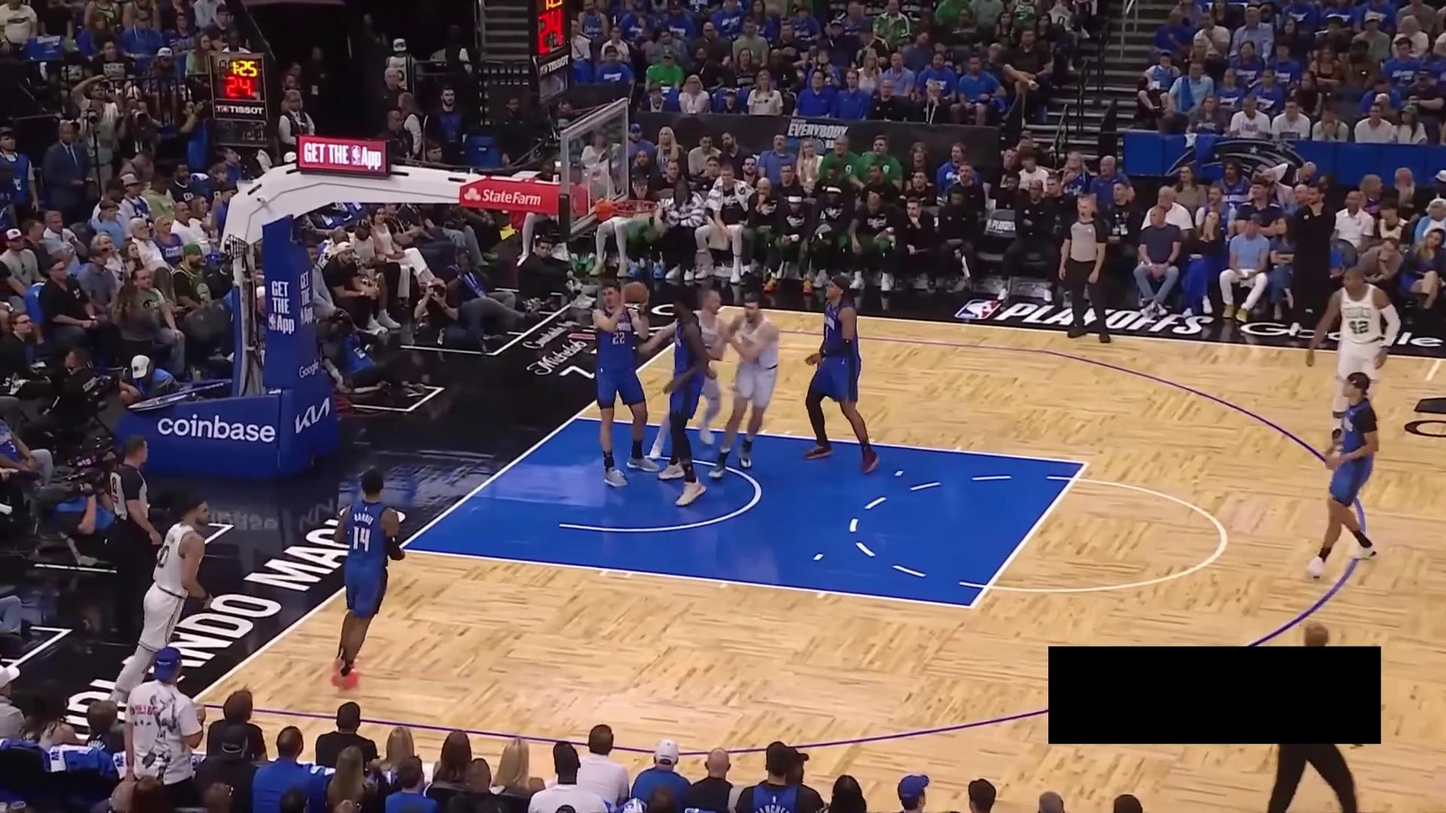ball: (622, 279, 647, 307)
number: (351, 523, 371, 553), (154, 544, 172, 569), (1348, 319, 1370, 335), (612, 330, 626, 345)
player: (105, 492, 218, 711), (1304, 266, 1401, 453), (638, 279, 737, 462), (328, 467, 407, 695), (1303, 371, 1381, 579), (803, 276, 880, 475), (707, 291, 780, 479), (657, 286, 707, 507)
player-in-possession: (585, 277, 661, 488)
referee: (1266, 615, 1362, 813), (106, 429, 165, 646), (1057, 191, 1112, 345)
rim: (611, 197, 663, 217)
